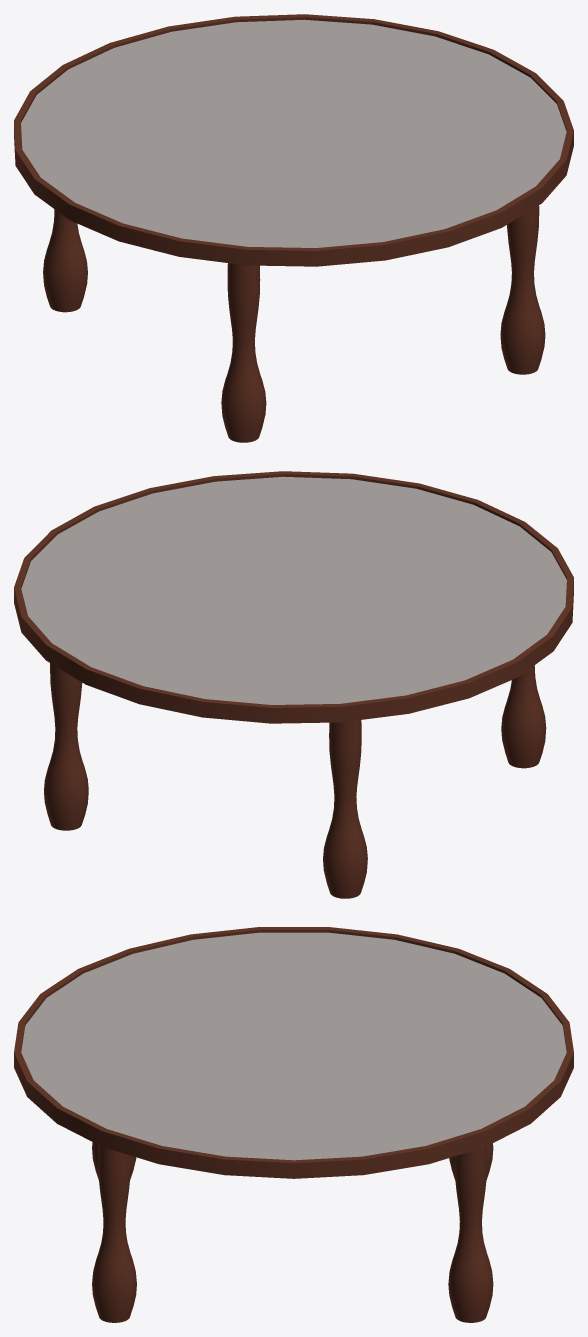
The model's file is 8ifQ8a92xw_.glb.
3 views of the same model, one above another, from view 1: azimuth 30°, elevation 25°; view 2: azimuth 150°, elevation 25°; view 3: azimuth 270°, elevation 25° (orthographic).
Parts seen in each view (by area): view 1: Cylinder001; view 2: Cylinder001; view 3: Cylinder001.
Boxes of the visible parts, left/top/right/bottom form: Cylinder001: left=14, top=14, right=573, bottom=442; Cylinder001: left=14, top=471, right=573, bottom=898; Cylinder001: left=14, top=927, right=573, bottom=1322.
Bounding box in the file's own units: 2.49 × 0.9999 × 2.49.
